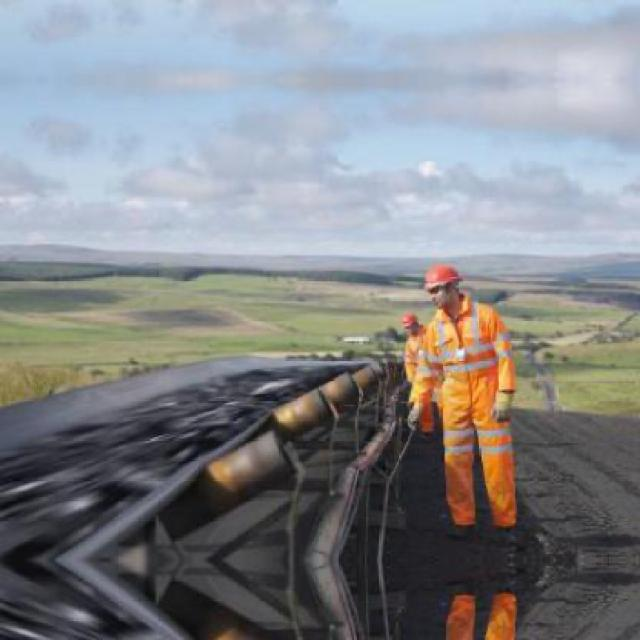helmet: (422, 260, 469, 311), (400, 312, 420, 334)
